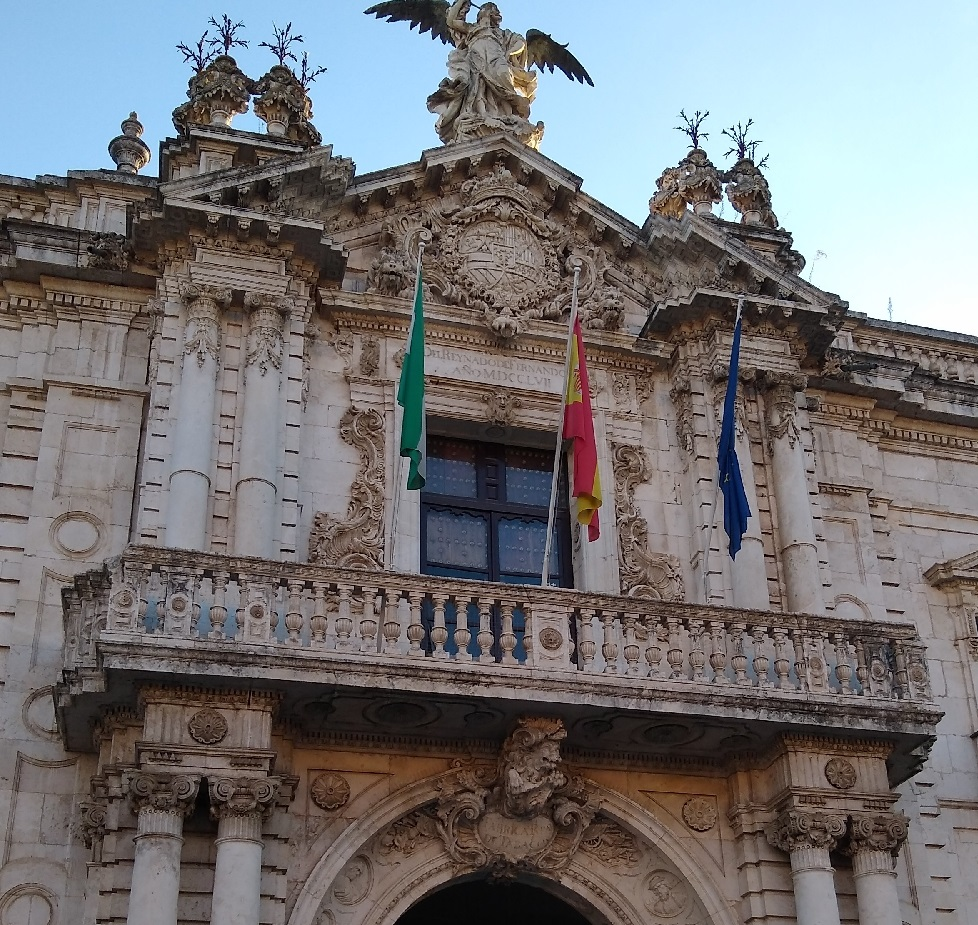fronton-partido: (155, 129, 837, 317)
vano-adintelado: (381, 369, 598, 670)
